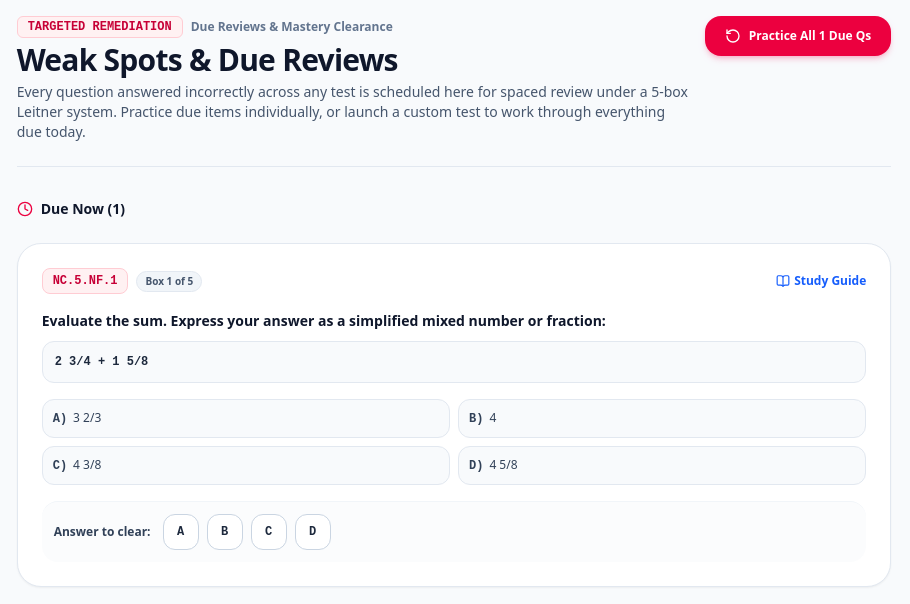
Test: WeakSpotsView › reports the real next-review interval on a correct retry, not a permanent-clear message
The image size is (910, 604).
Step 1. Click the button "C" → point(268, 532), box left=250, top=514, right=286, bottom=550
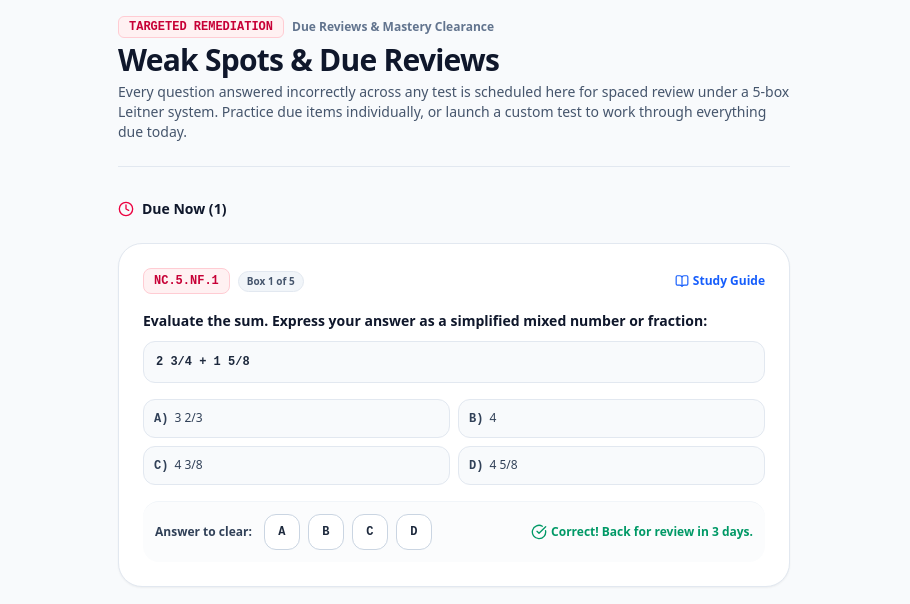
Now the text "Correct! Back for review in 3 days." is shown, box left=531, top=524, right=753, bottom=540
